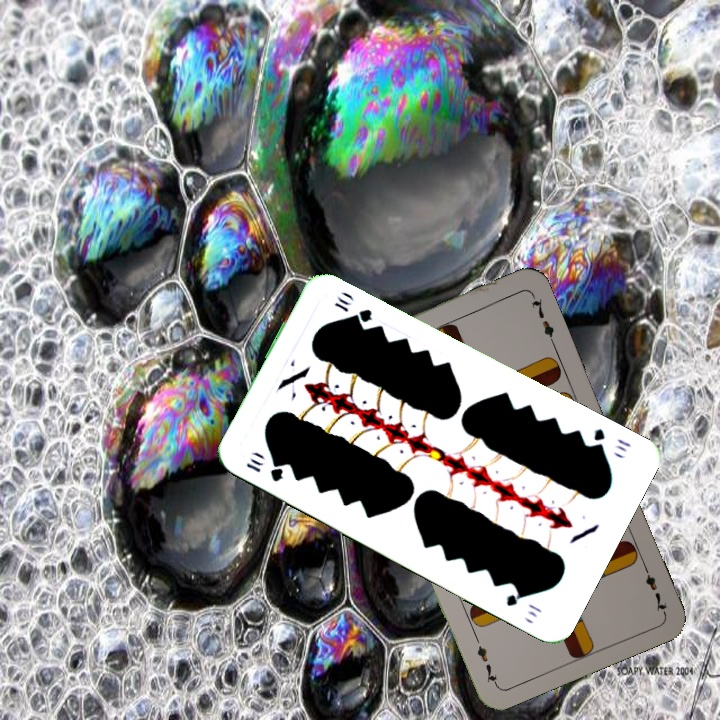E7: (638, 559, 670, 615)
G10: (588, 424, 635, 455), (242, 454, 286, 485)
